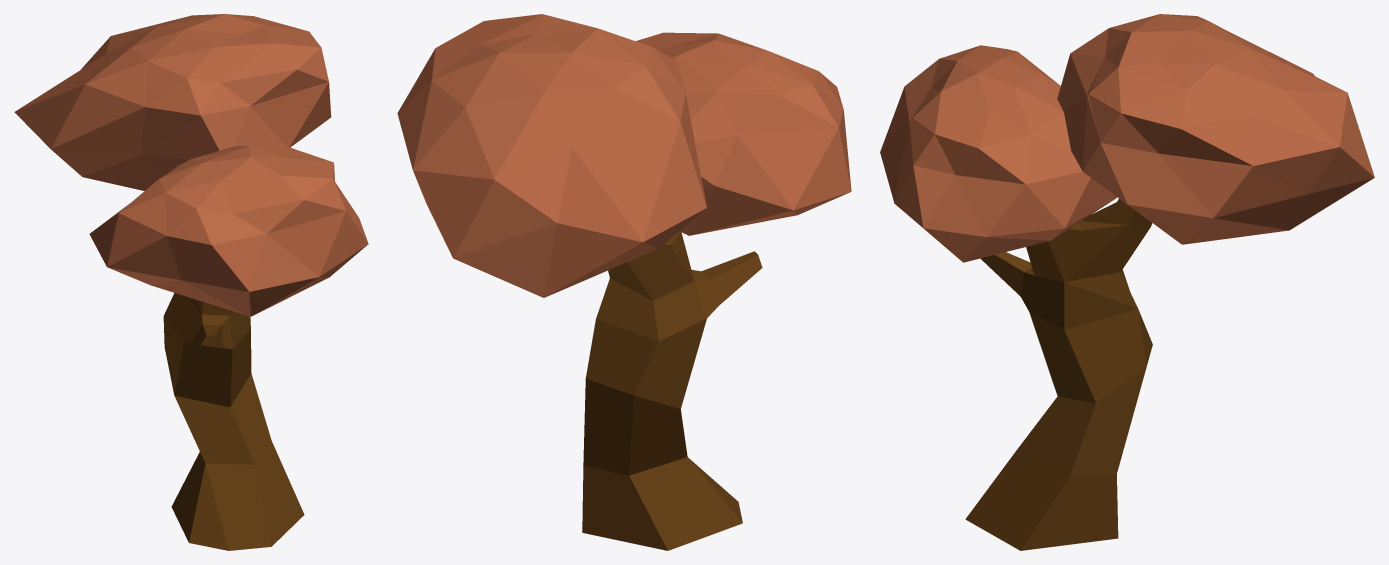
Rendered from co_Tree08_B.fbx.
3 renders of one model, left to right at view 1: azimuth 30°, elevation 25°; view 2: azimuth 150°, elevation 25°; view 3: azimuth 270°, elevation 25°, orthographic. The views are drawn at different scales.
Visible parts, largest first — view 1: Tree08_B_LOD0; view 2: Tree08_B_LOD0; view 3: Tree08_B_LOD0.
Part boxes in pixels (x1,y1,x2,y2): Tree08_B_LOD0: (14, 14, 368, 550); Tree08_B_LOD0: (397, 14, 851, 550); Tree08_B_LOD0: (880, 14, 1374, 550).
Size of what is drawn, in the model's own units: 12.03 by 17.61 by 15.91.
